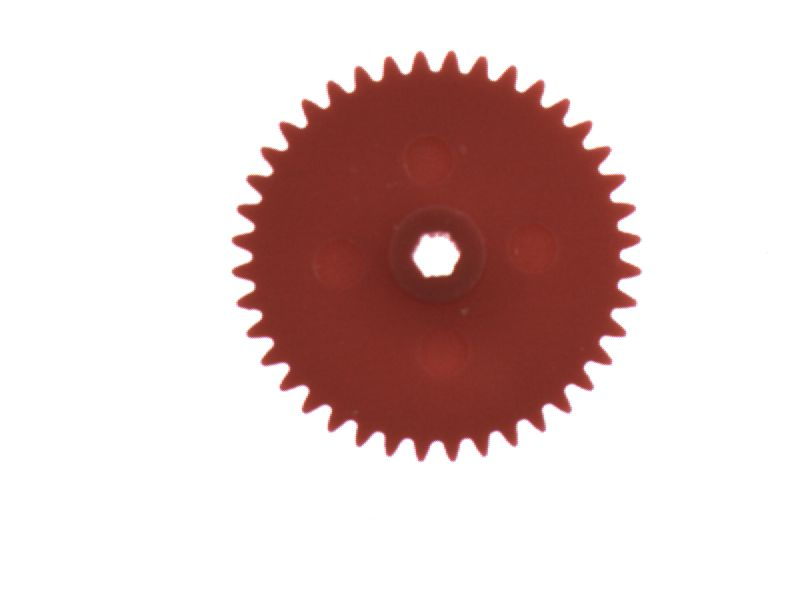good_product: (219, 41, 654, 473)
